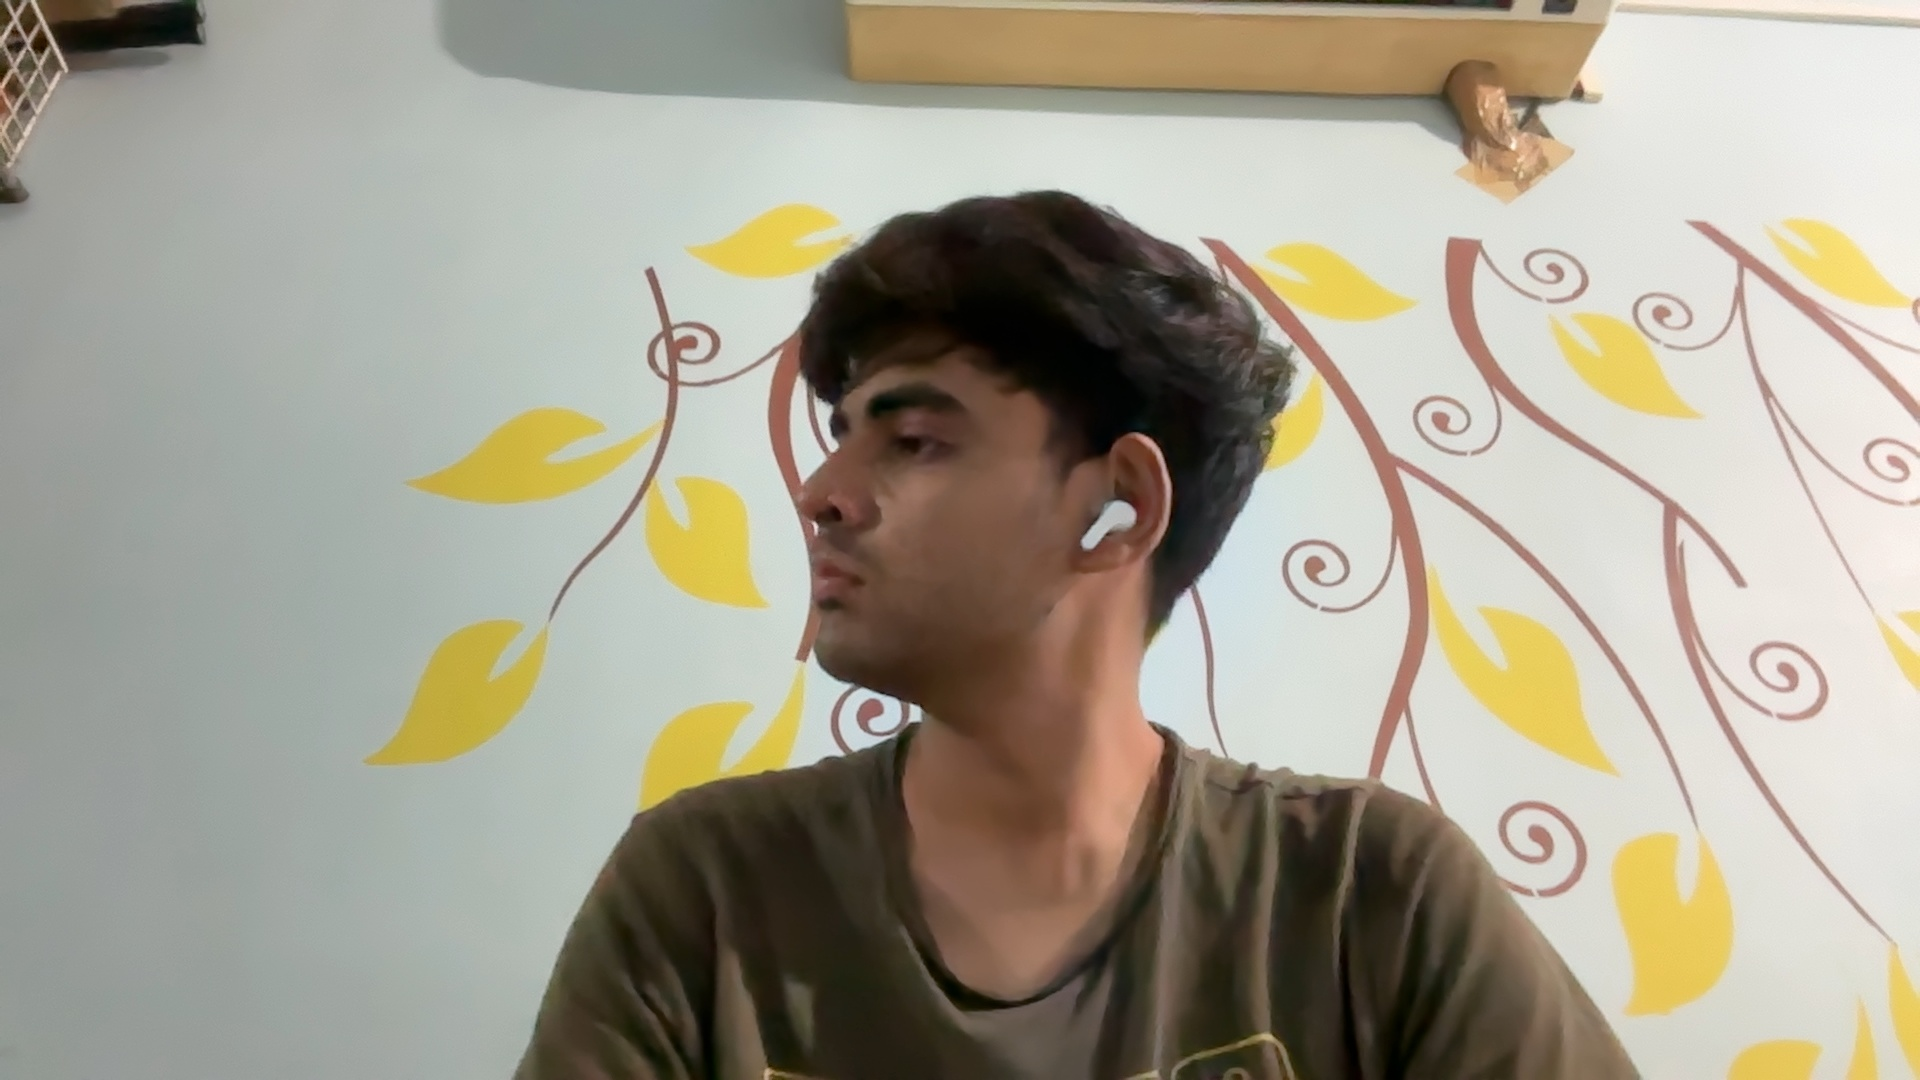No Mask: (768, 461, 1068, 691)
